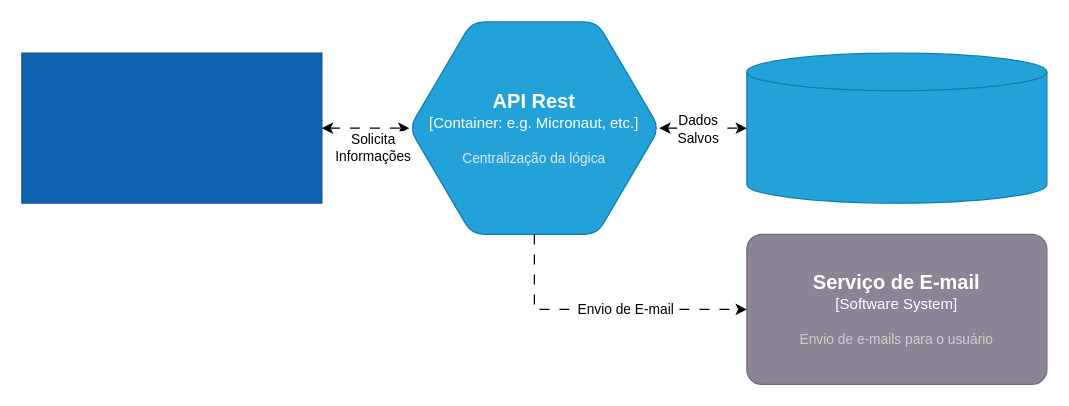
Image size: 1069x406. Some labels were removed from this diagram. The box of each missing label's shape, as (x1, y1, x2, y2) in pixels:
Aplicativo Web [Software System] Interface Web para o Usuário: (21, 52, 322, 203)
Armazenamento dos Dados [Container: e.g. Oracle Database 12] Informações salvas: (746, 52, 1047, 203)
